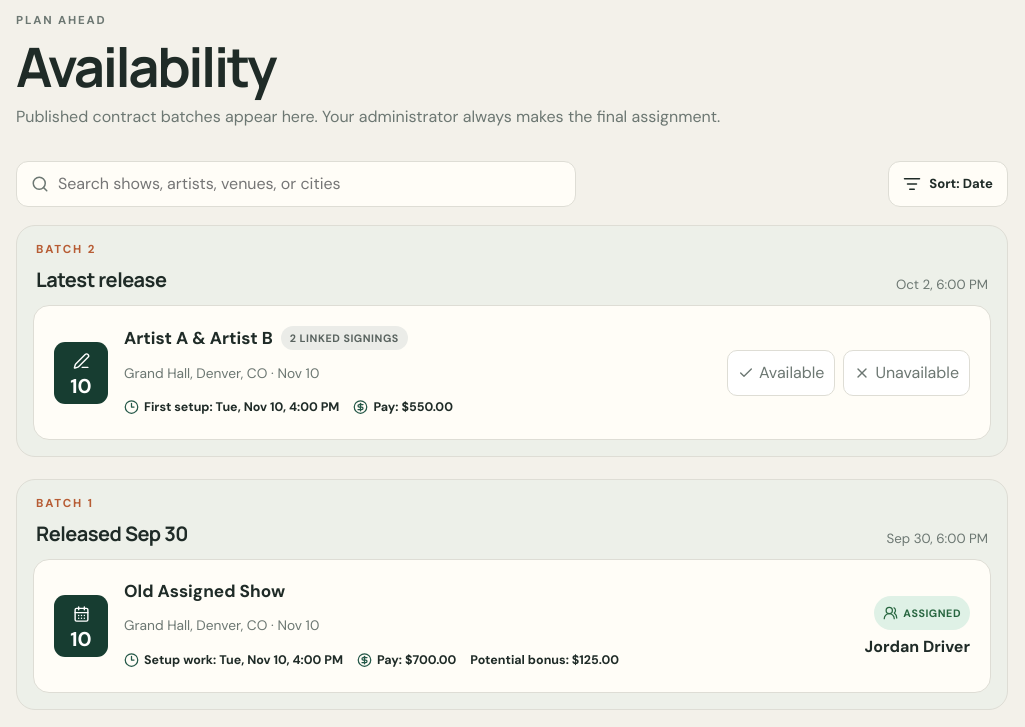
Scenario: Availability batches › uses contract wording when a search has no matches
Type "missing" into the search field named "Search availability" at (310, 184), box [58,173,561,194]
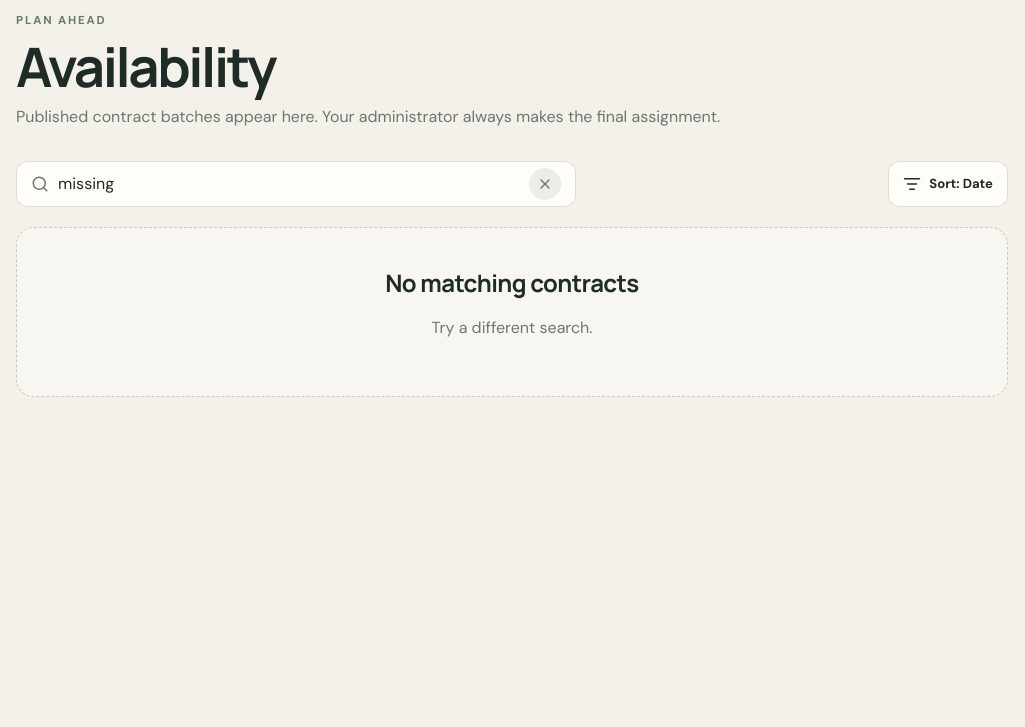
Now the heading "No matching contracts" is shown, box [385,266,639,300]
